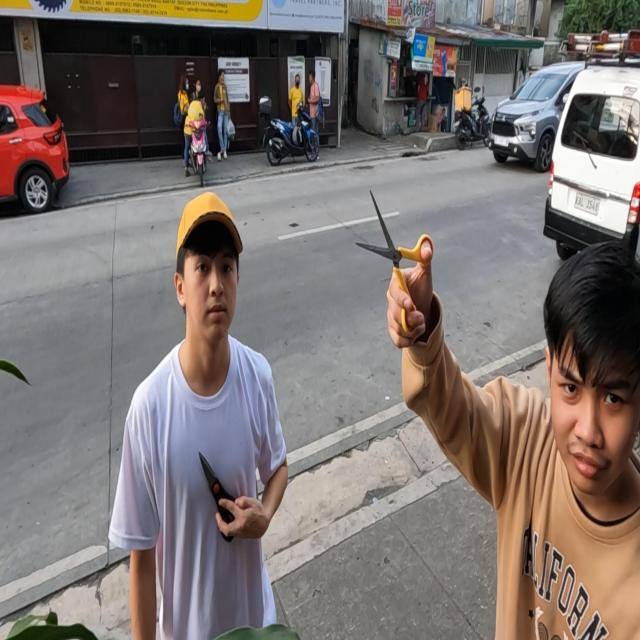scissor: (354, 190, 434, 340), (195, 448, 243, 544)
